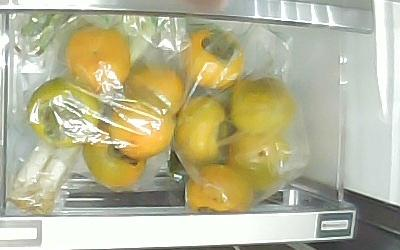persimmon_vinyl: (28, 77, 100, 147), (108, 90, 175, 159), (65, 27, 131, 89), (181, 28, 246, 90), (83, 123, 145, 186), (227, 133, 291, 192), (174, 96, 231, 162), (229, 78, 296, 134), (185, 162, 253, 212), (125, 68, 183, 114)
